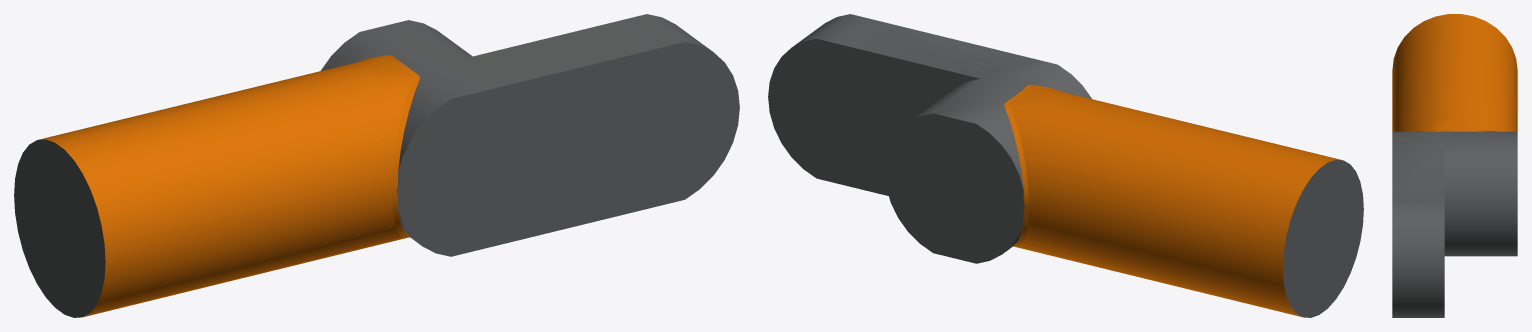
3 views of the same model, side by side, from view 1: azimuth 30°, elevation 25°; view 2: azimuth 150°, elevation 25°; view 3: azimuth 270°, elevation 25° (orthographic). The views are drawn at different scales.
Visible parts, largest first — view 1: b2_LOD0, b2_col; view 2: b2_LOD0, b2_col; view 3: b2_LOD0, b2_col.
Part boxes in pixels (bbox=[...]): b2_LOD0: bbox=[14, 14, 739, 317]; b2_col: bbox=[14, 14, 739, 316]; b2_LOD0: bbox=[768, 14, 1363, 317]; b2_col: bbox=[769, 15, 1363, 317]; b2_LOD0: bbox=[1392, 14, 1517, 317]; b2_col: bbox=[1392, 59, 1517, 209].
Size of what is drawn, in the model's own units: 48 by 11.93 by 12.
